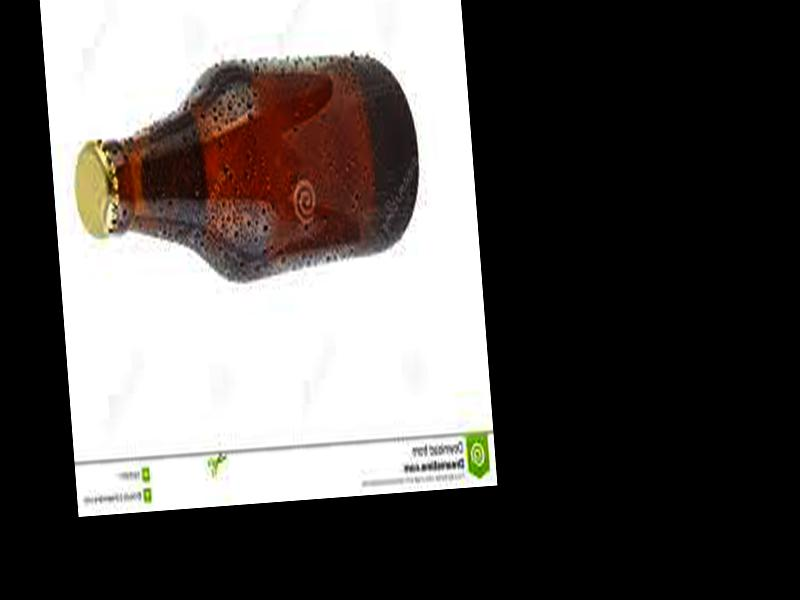Beer: (68, 47, 425, 292)
